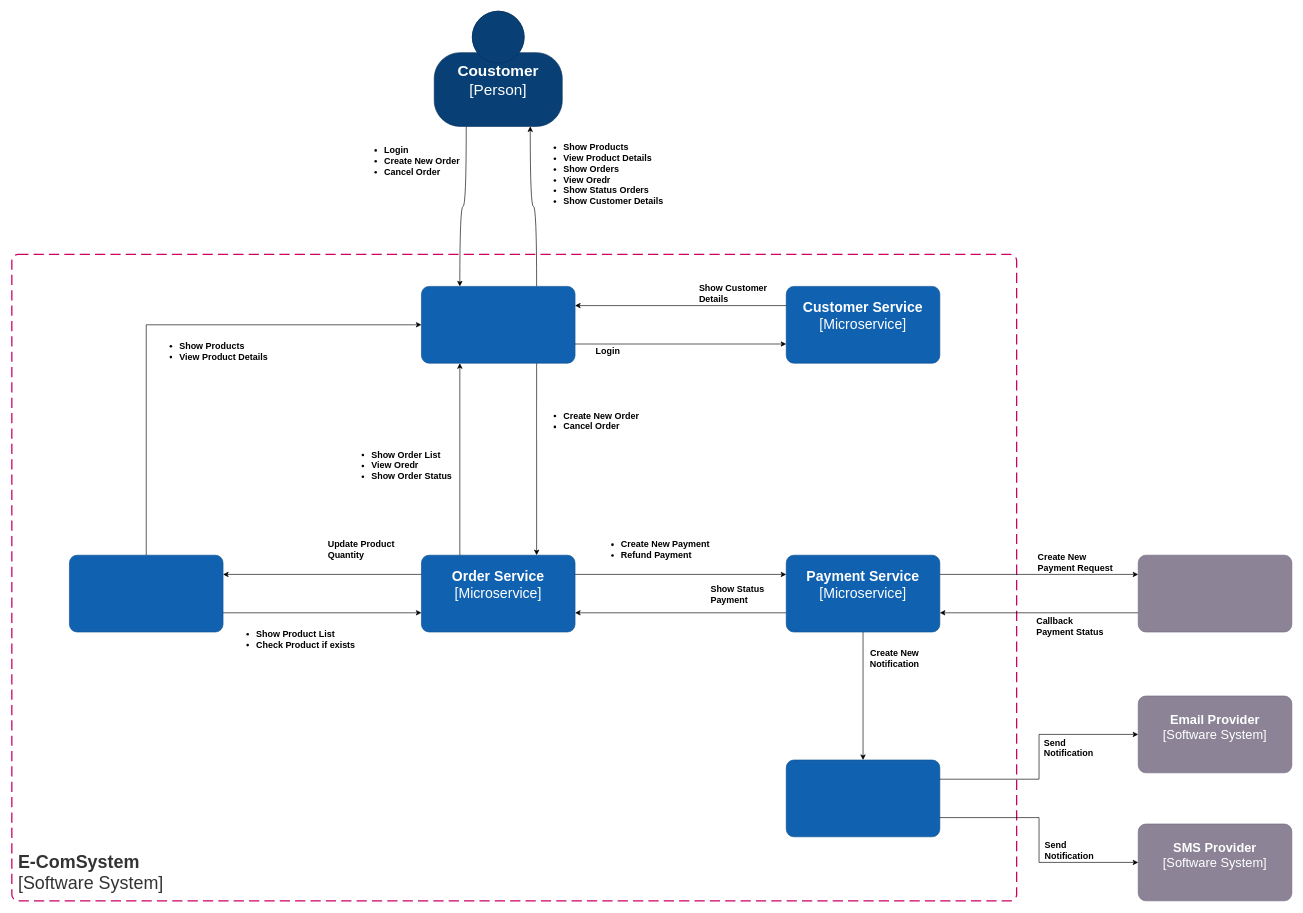
Some shapes in this 1303 by 913 pixel diagram are drawn without their labels. Each missing label, with the centre of its shape:
"API Gateway [Service]" goes at point 498,324.
"Inventory Service [Microservice]" goes at point 146,593.
"Notification Service [Microservice]" goes at point 863,798.
"Payment Getway [Software System]" goes at point 1215,593.
